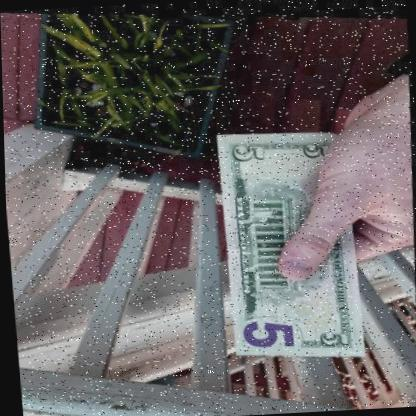five-back: (217, 126, 364, 350)
